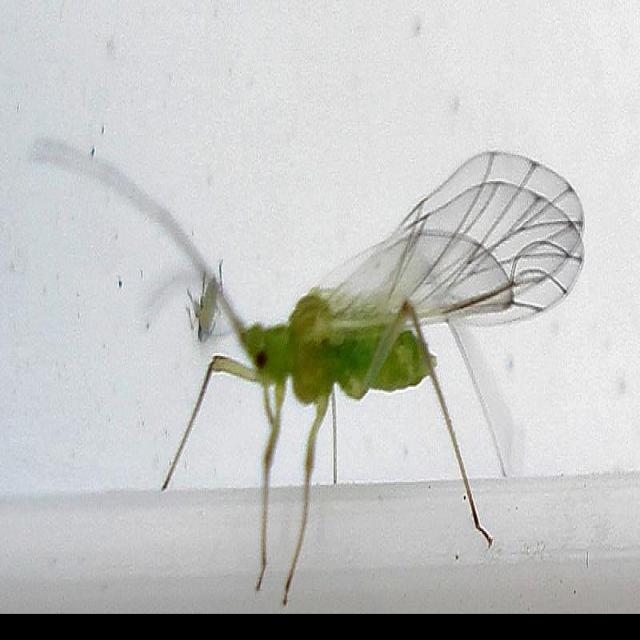Aphids: (144, 185, 581, 600)
